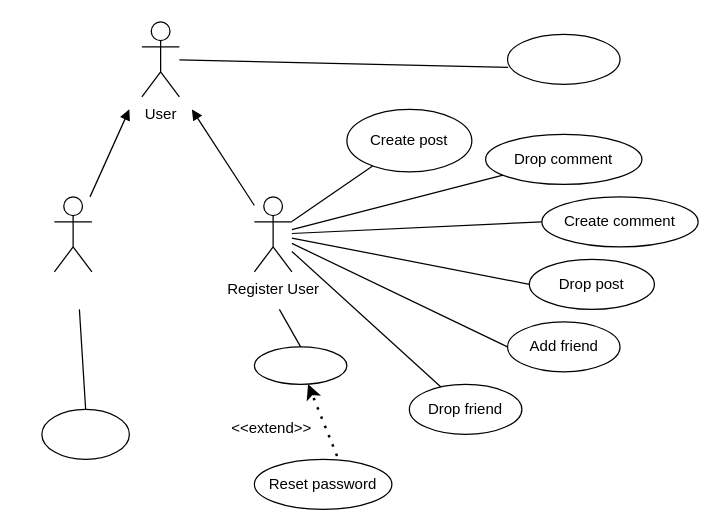
This 720x531 diagram has some shape labels left out. Here are the shapes that lost their labels. From the top down, the centre of each, then its label:
[563,58]: View post
[72,234]: Unregister user
[300,365]: Login
[85,433]: Register
